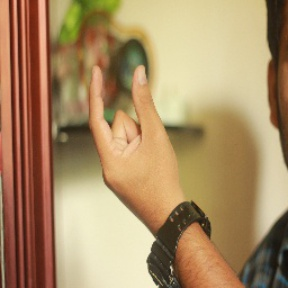U: (84, 53, 172, 194)
